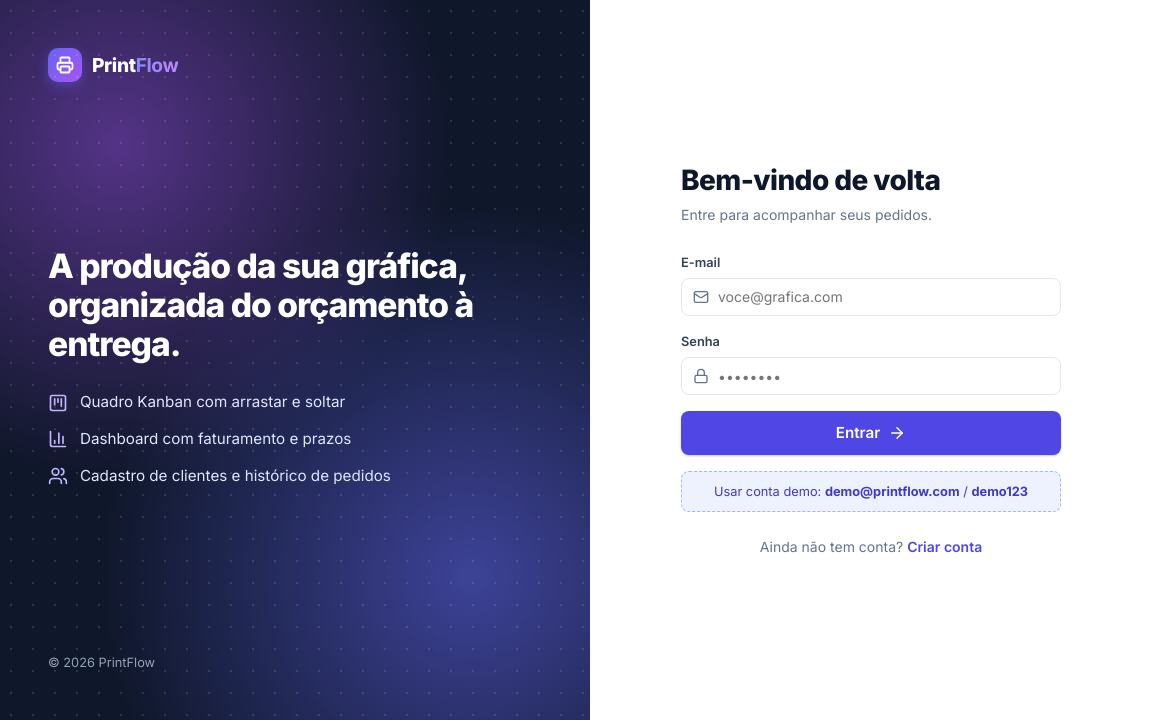
it: LoginPage › preenche credenciais demo ao clicar no atalho
Click the button "Usar conta demo: demo@printflow.com / demo123". click: click(871, 492)
box: [681,471,1061,512]
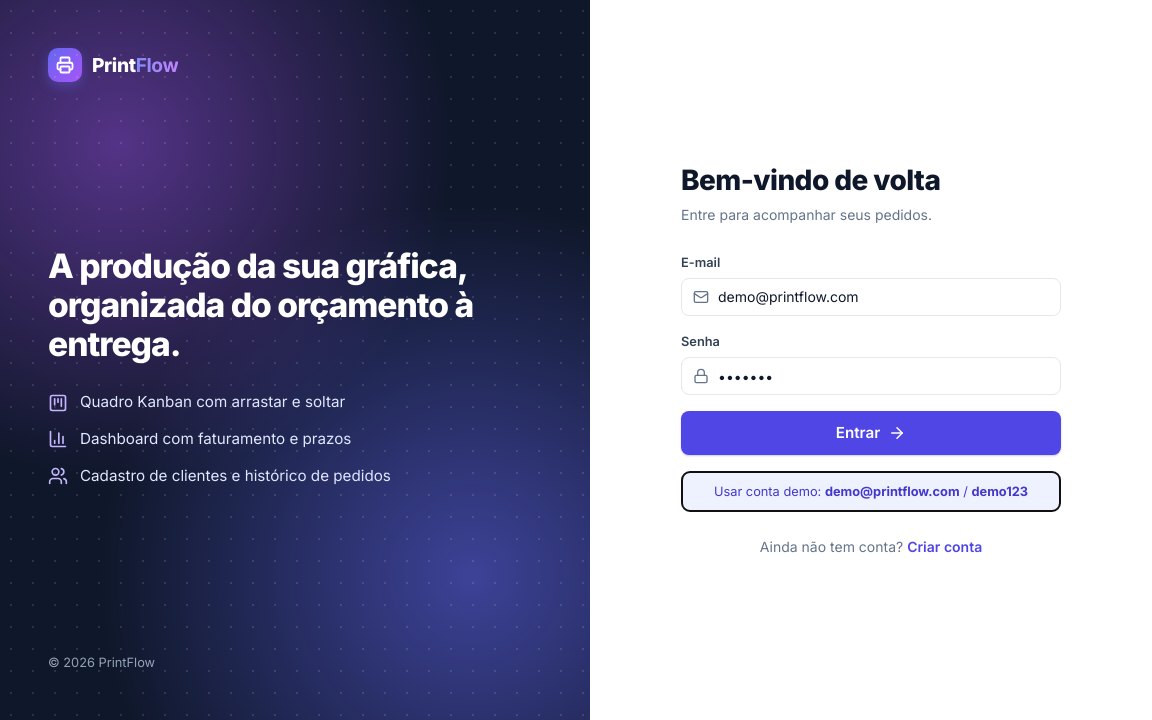
expect the field with placeholder "voce@grafica.com" holds "demo@printflow.com": met, box [681,278,1061,316]
expect the password field with placeholder "••••••••" holds "demo123": met, box [681,357,1061,395]
